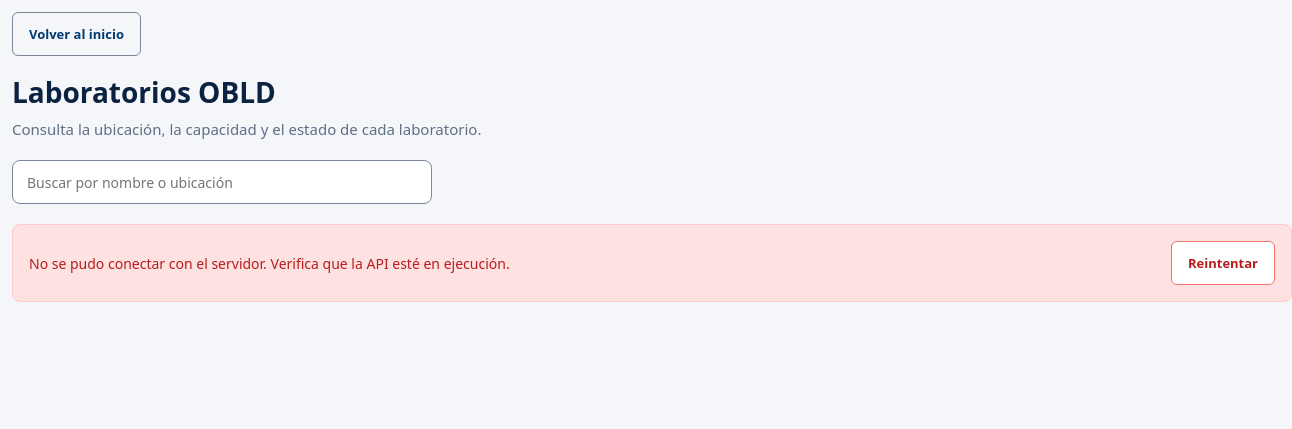
un fallo de red se muestra como alerta y permite reintentar
Expected: the message shows "No se pudo conectar con el servidor.", top-left (29, 254), bottom-right (510, 273)
Click the button "Reintentar": (1223, 263) top-left (1171, 241), bottom-right (1275, 285)
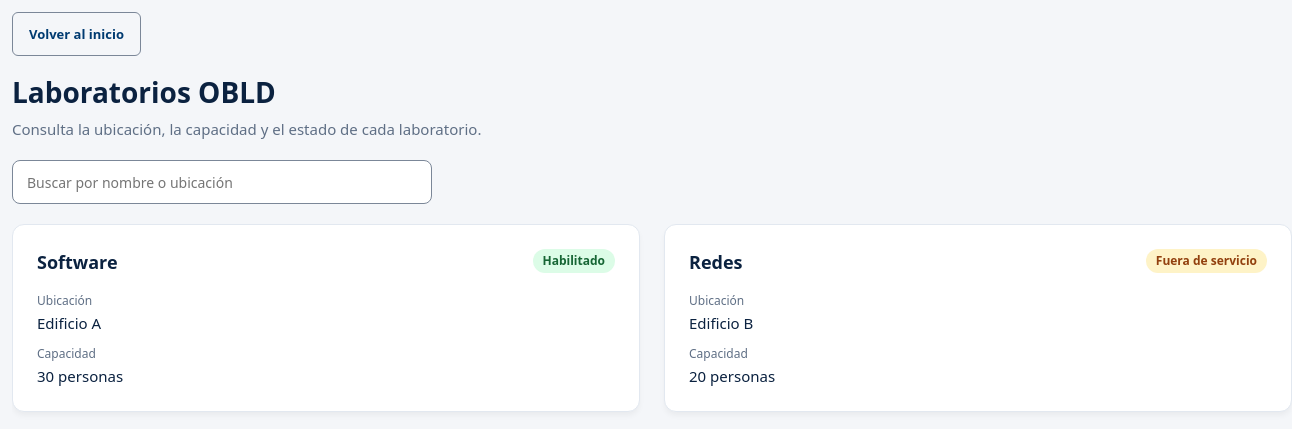
Result: the heading "Software" is shown at top-left (37, 249), bottom-right (118, 276)
Result: the message is gone
